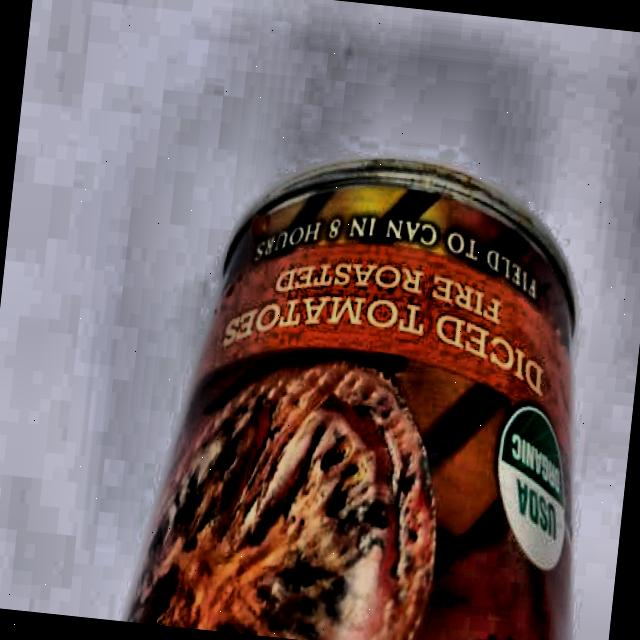metal: (133, 135, 632, 640)
